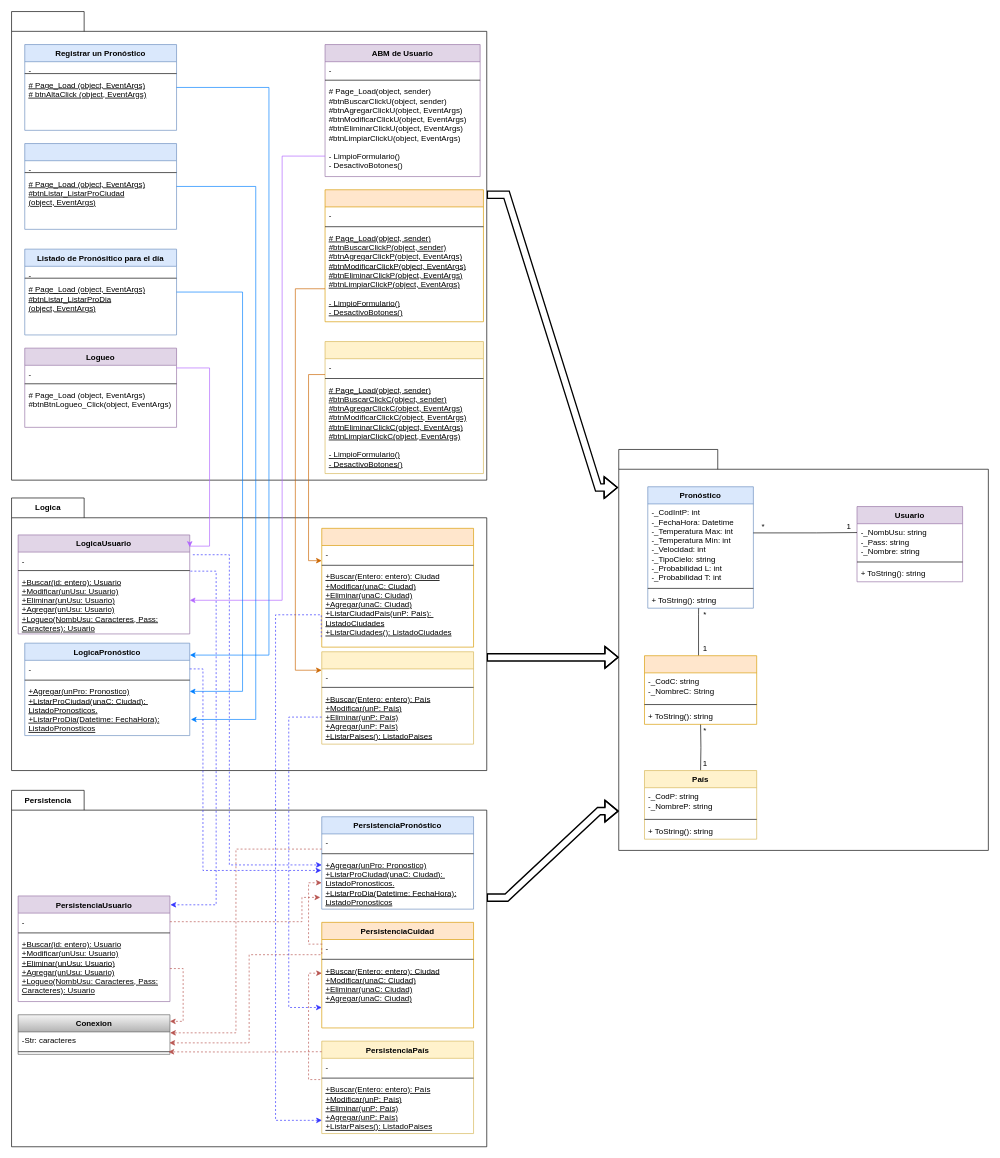
Image size: 1000x1158. Some labels were removed from this diagram. The shapes that lost their labels are listed below. From the top down, each one's box as (x1, y1, x2, y2) in pixels, then its label:
(24, 143, 177, 229): Listado de Pronósitico por ciudad
(11, 11, 487, 480): UI
(324, 189, 483, 322): ABM de Países
(324, 341, 483, 474): ABM de Ciudades
(321, 528, 474, 647): LogicaCiudad
(618, 449, 988, 850): Entidades Compartidas
(321, 651, 474, 744): LogicaPaís
(644, 655, 757, 724): Ciudad
